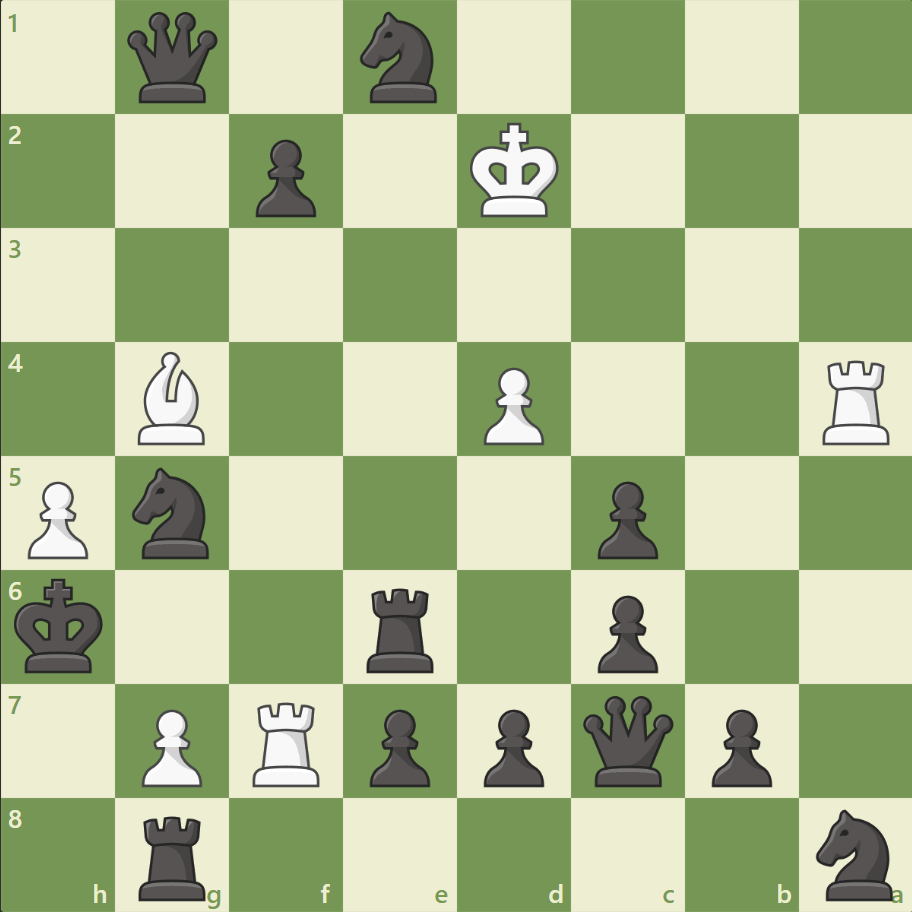B: (131, 347, 215, 449)
K: (465, 117, 565, 225)
P: (133, 700, 208, 791), (20, 473, 95, 564), (474, 359, 549, 450)
R: (246, 693, 329, 790), (814, 352, 897, 449)
k: (11, 571, 111, 679)
n: (124, 461, 222, 564), (351, 7, 449, 110), (806, 802, 903, 904)
p: (701, 700, 776, 791), (474, 700, 549, 791), (247, 132, 322, 223), (361, 700, 435, 791), (588, 586, 662, 677), (588, 473, 662, 564)
q: (578, 690, 677, 789), (124, 9, 223, 108)
r: (133, 806, 215, 904), (360, 579, 442, 676)
